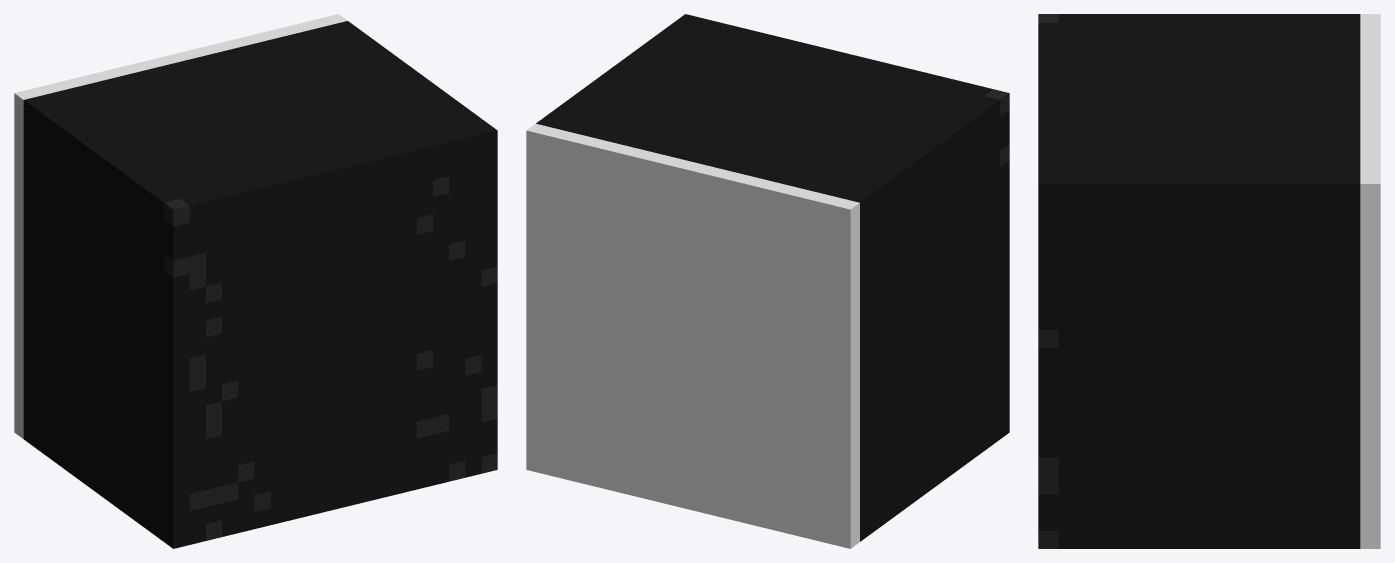
File: DoorInterior (1).FBX
3 renders of one model, left to right at view 1: azimuth 30°, elevation 25°; view 2: azimuth 150°, elevation 25°; view 3: azimuth 270°, elevation 25°, orthographic. The views are drawn at different scales.
Parts seen in each view (by area): view 1: InteriorPuerta; view 2: InteriorPuerta; view 3: InteriorPuerta.
Part boxes in pixels (x1=…): InteriorPuerta: x1=14, y1=14, x2=497, y2=548; InteriorPuerta: x1=526, y1=14, x2=1009, y2=548; InteriorPuerta: x1=1038, y1=14, x2=1380, y2=548.
Size of the model in its own units: 1 by 1 by 0.85.
Materials: 1 (1 with a texture image).
